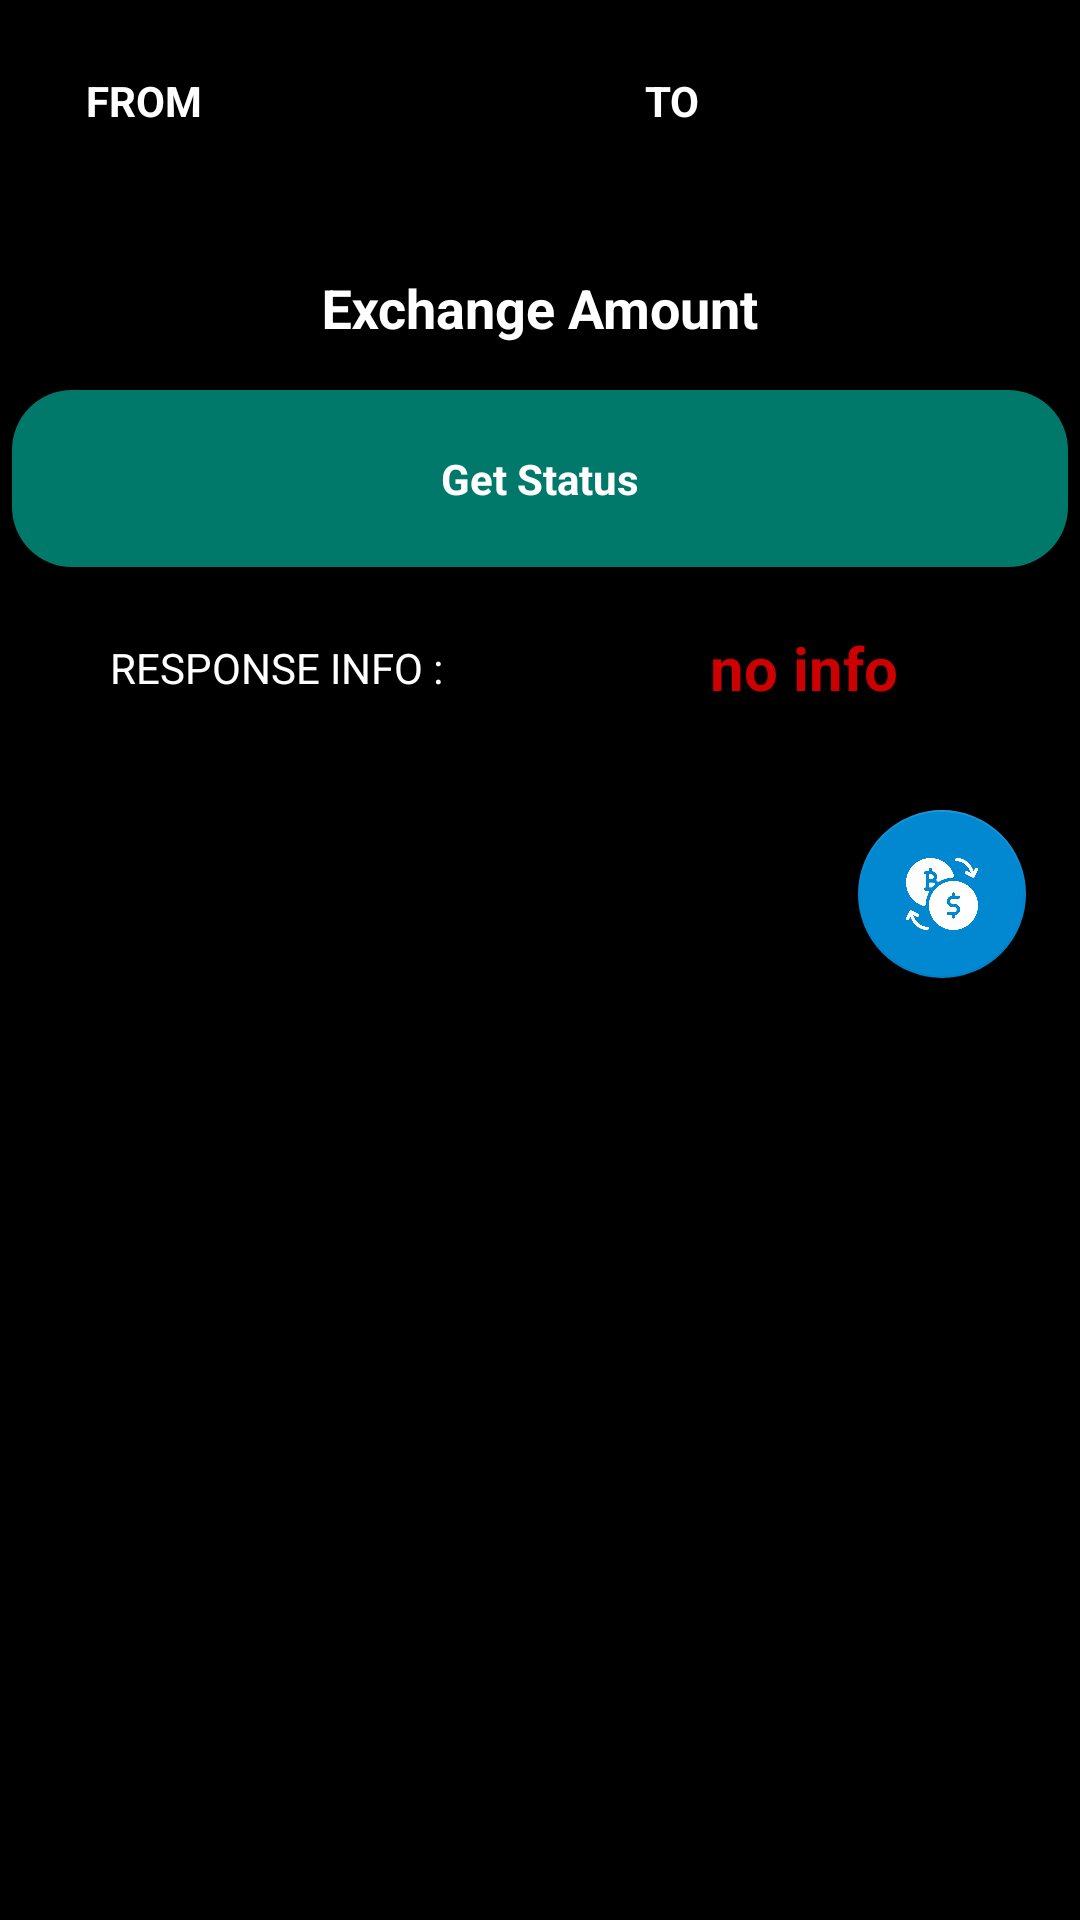

Screen size 1080x1920. Icon name, then its center in pixels as point (x, y):
exchange: point (942, 894)
